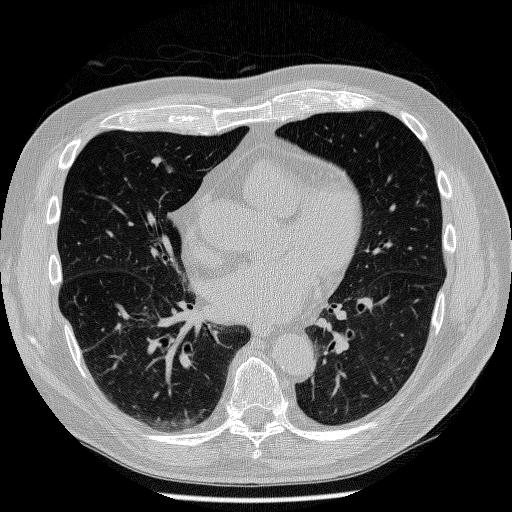nodule: (150, 155, 162, 167)
